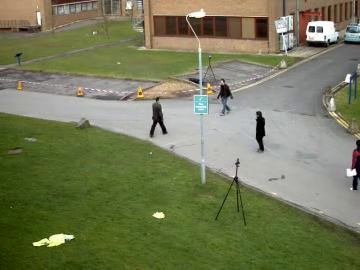person: (254, 111, 272, 153), (148, 97, 166, 137), (217, 77, 233, 113)
